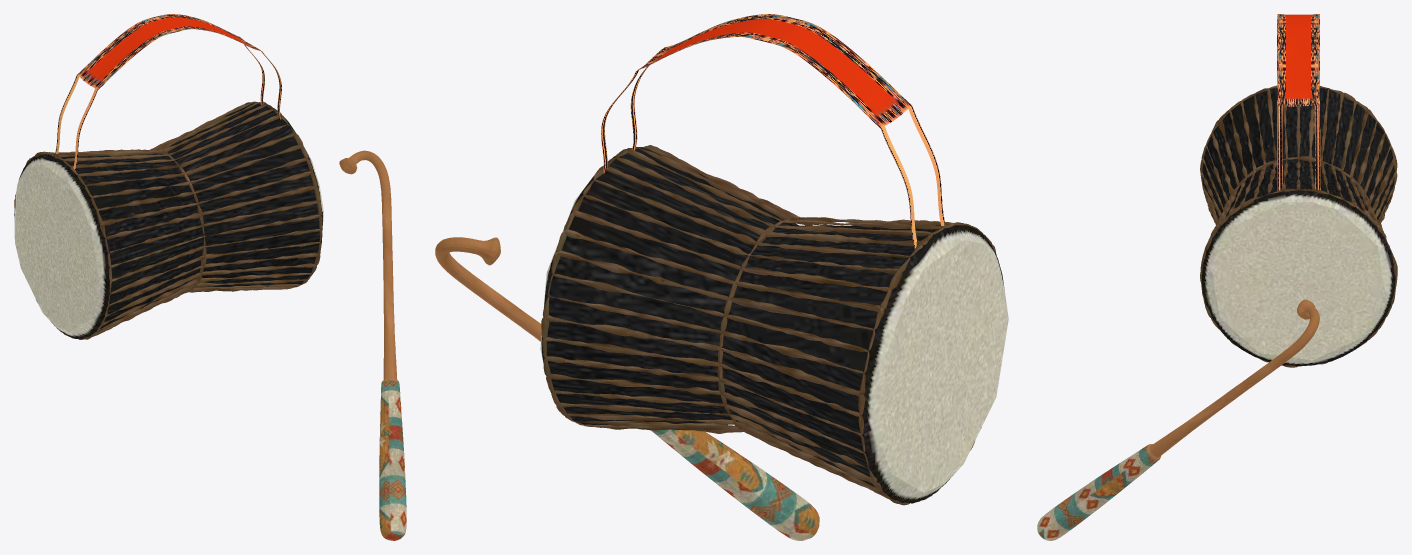
File: KalanguDrum.glb
3 views of the same model, side by side, from view 1: azimuth 30°, elevation 25°; view 2: azimuth 150°, elevation 25°; view 3: azimuth 270°, elevation 25° (orthographic). The views are drawn at different scales.
Visible parts, largest first — view 1: Drum, Strings, DrumStick, Crossbody-Strap; view 2: Drum, Strings, Crossbody-Strap, DrumStick; view 3: Drum, Strings, DrumStick, Crossbody-Strap.
Part boxes in pixels (x1,y1,x2,y2): Drum: (14,103,323,338); Strings: (14,101,322,339); DrumStick: (339,150,406,540); Crossbody-Strap: (55,14,281,170); Drum: (540,147,1008,503); Strings: (541,145,996,505); Crossbody-Strap: (601,14,945,249); DrumStick: (435,237,819,540); Drum: (1201,88,1395,366); Strings: (1200,85,1397,367); DrumStick: (1037,299,1319,540); Crossbody-Strap: (1277,14,1320,190).
Size of the model in its own units: 4.07 by 5.28 by 3.71.
Materials: 4 (4 with a texture image).
